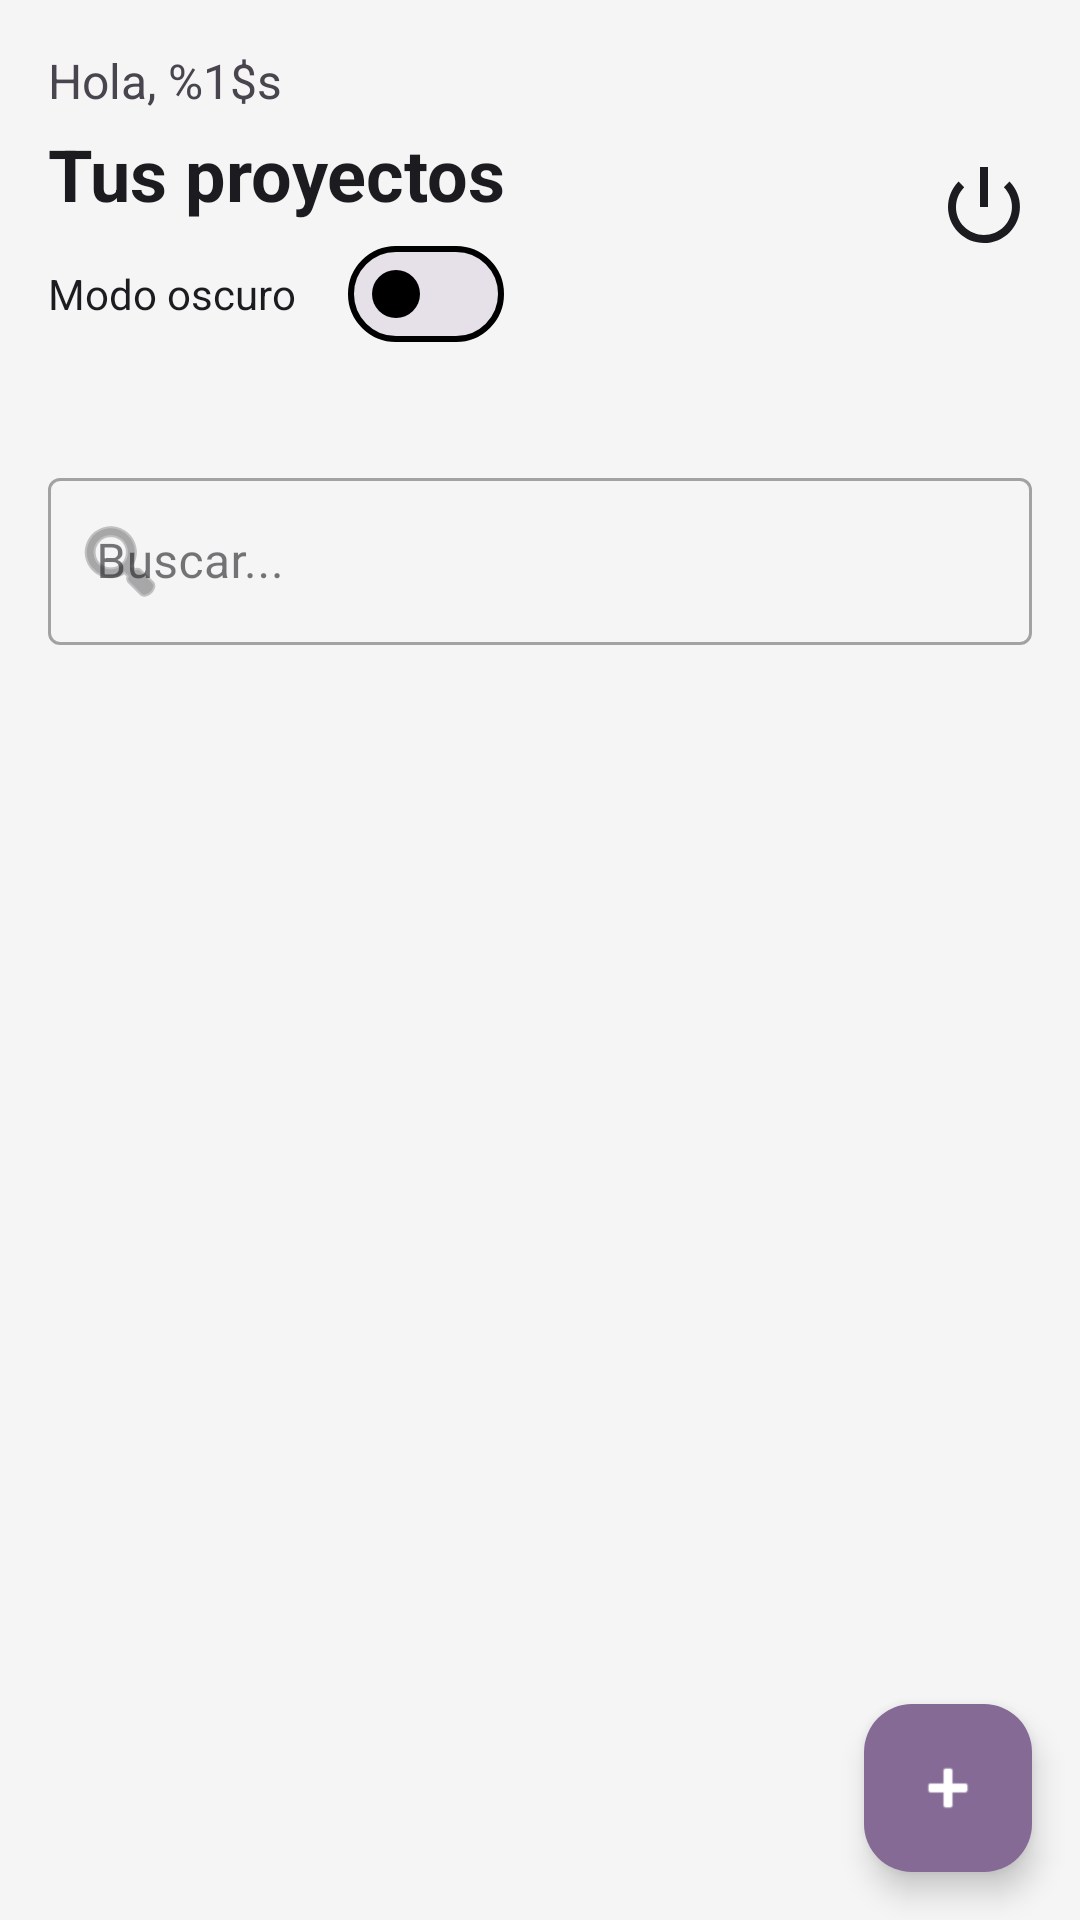

Named icons in this screenshot (1080*1920) and their bounding boxes, (x1, y1, x2, y2):
Cerrar sesión: (948, 167, 1020, 243)
Nuevo proyecto: (864, 1704, 1032, 1872)
